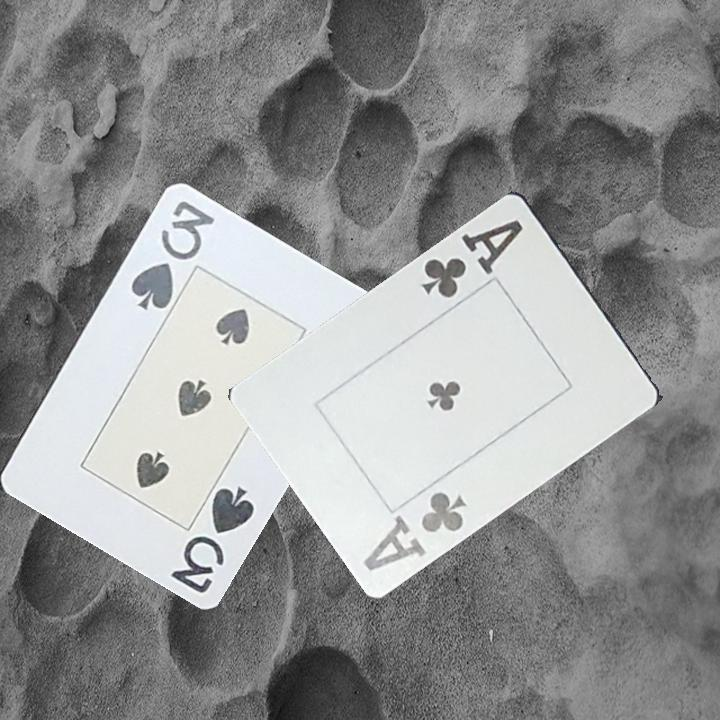3s: (127, 196, 217, 313), (167, 482, 258, 596)
Ac: (359, 487, 471, 574), (417, 215, 526, 301)
